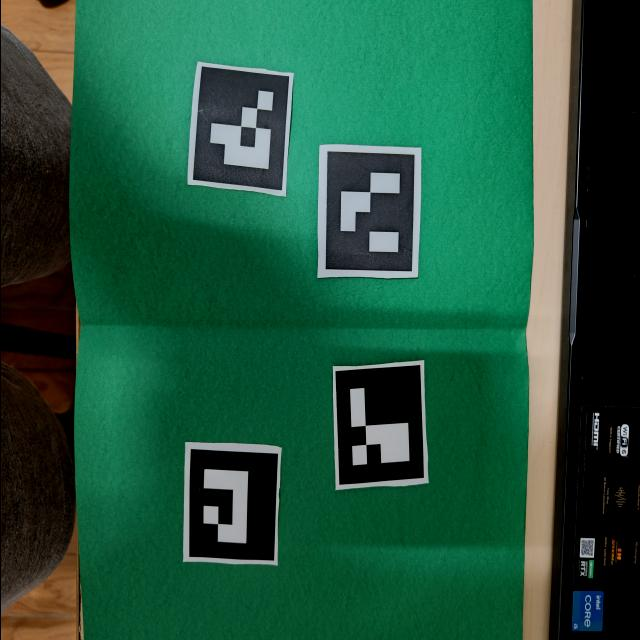other: (0, 2, 640, 640)
